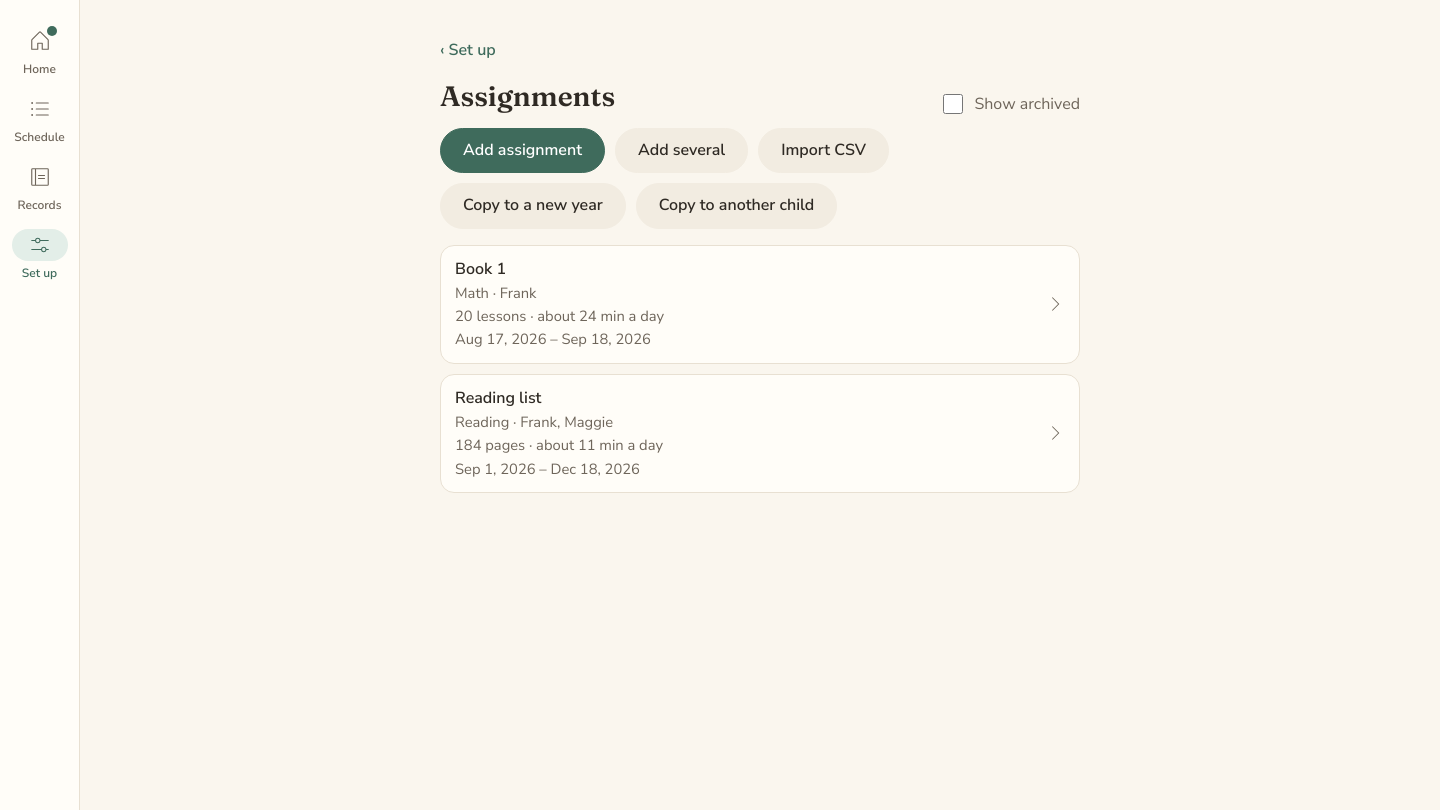
Test: Copy to a new year (S7-01) › copies the plan fields shifted by the difference, null weight and days staying null
Expected: the list named "Assignments" is shown, [440, 245, 1080, 493]
Click the button "Copy to a new year" at (533, 206), box [440, 183, 626, 229]
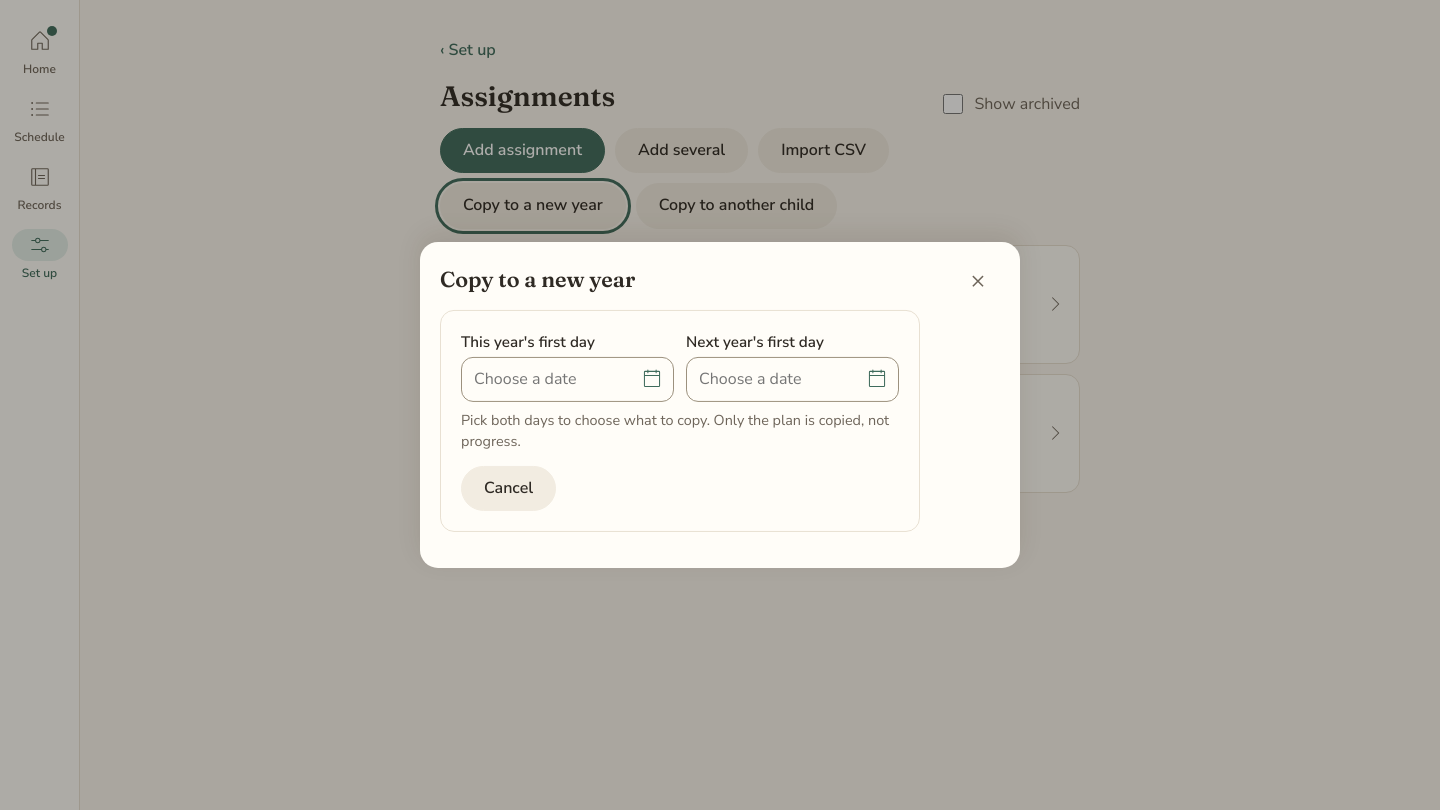
Type "2026-08-17" into the field labelled "This year's first day" at (568, 380), box [461, 357, 674, 402]
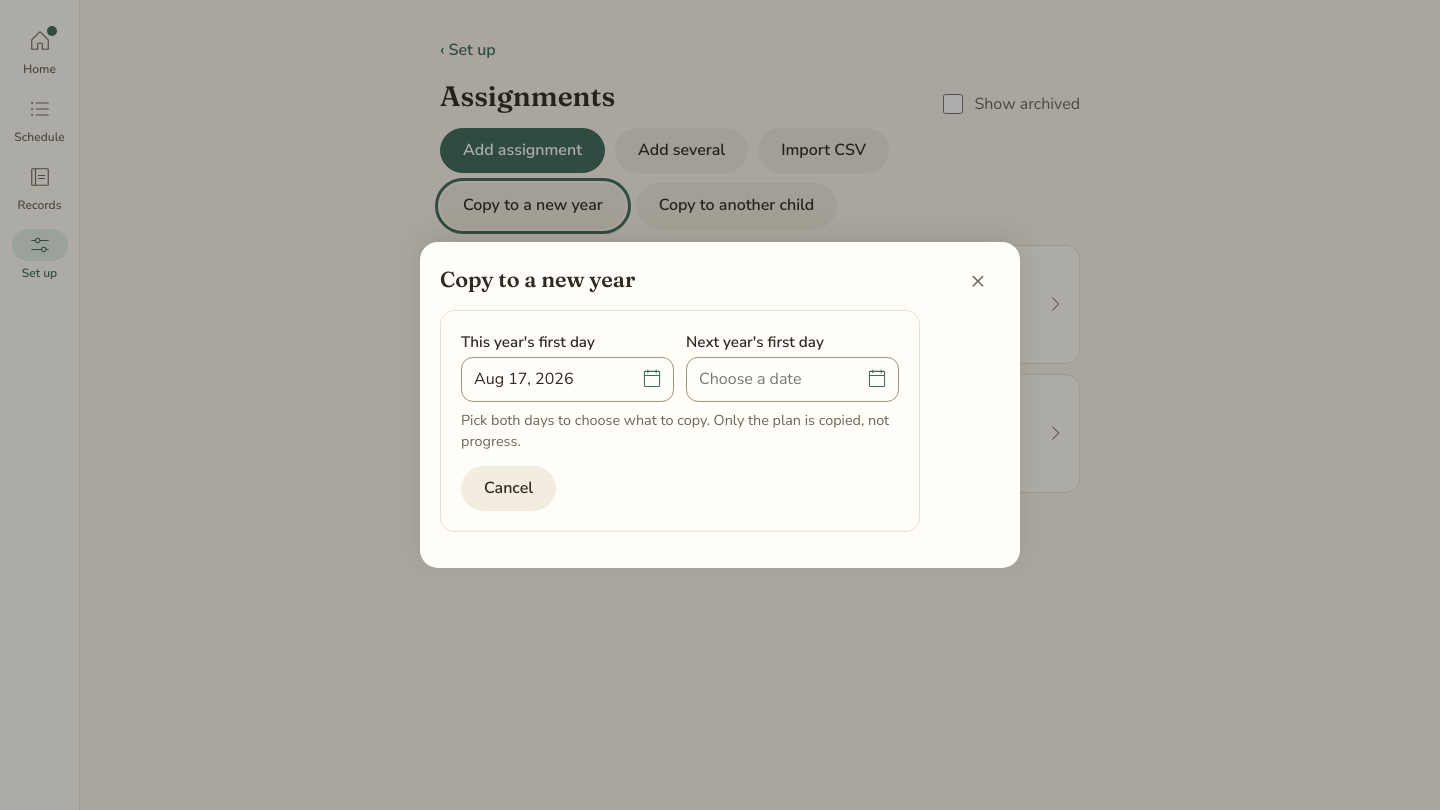
Type "2027-08-16" into the field labelled "Next year's first day" at (792, 380), box [686, 357, 899, 402]
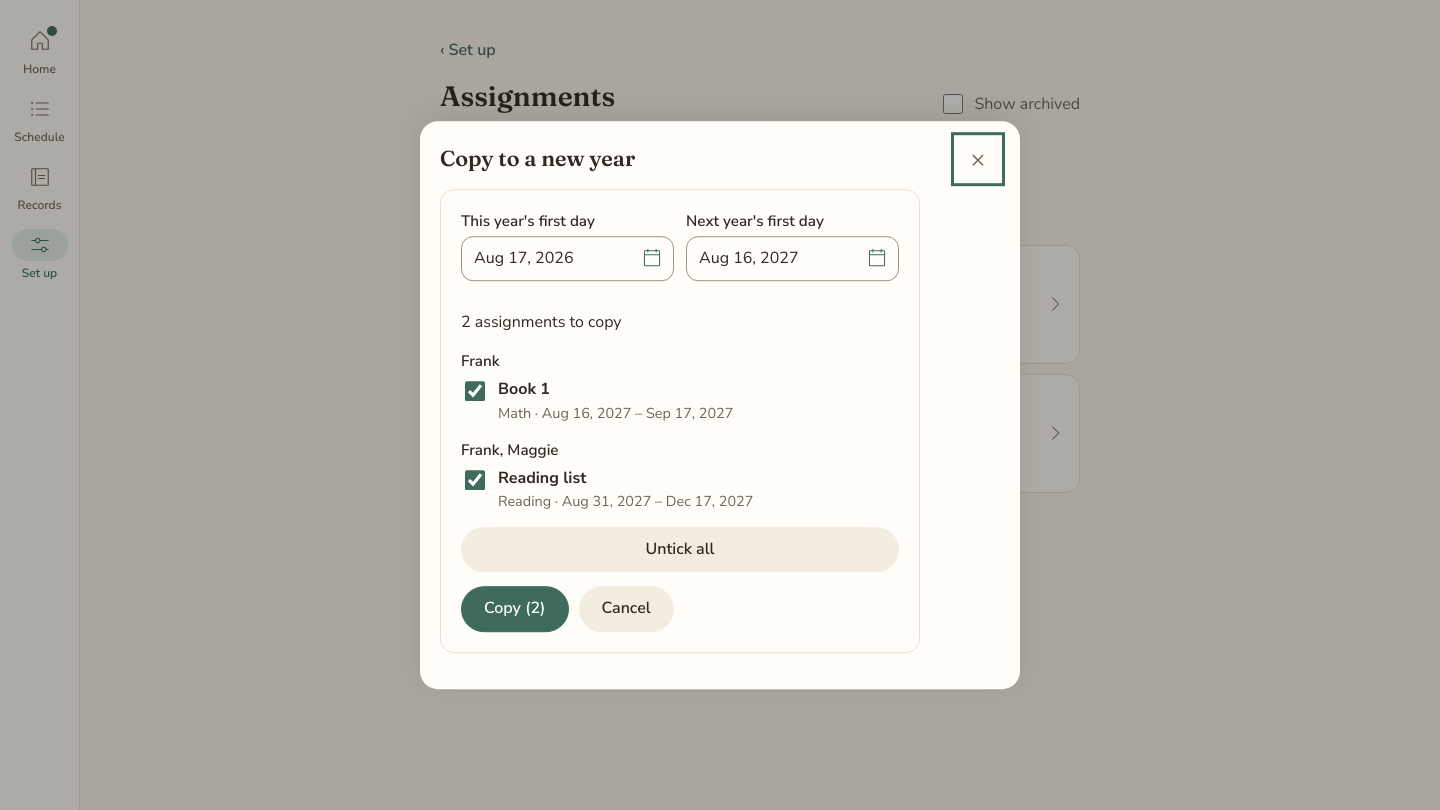
Click the button "Copy (2)" at (515, 609), box [461, 587, 568, 632]
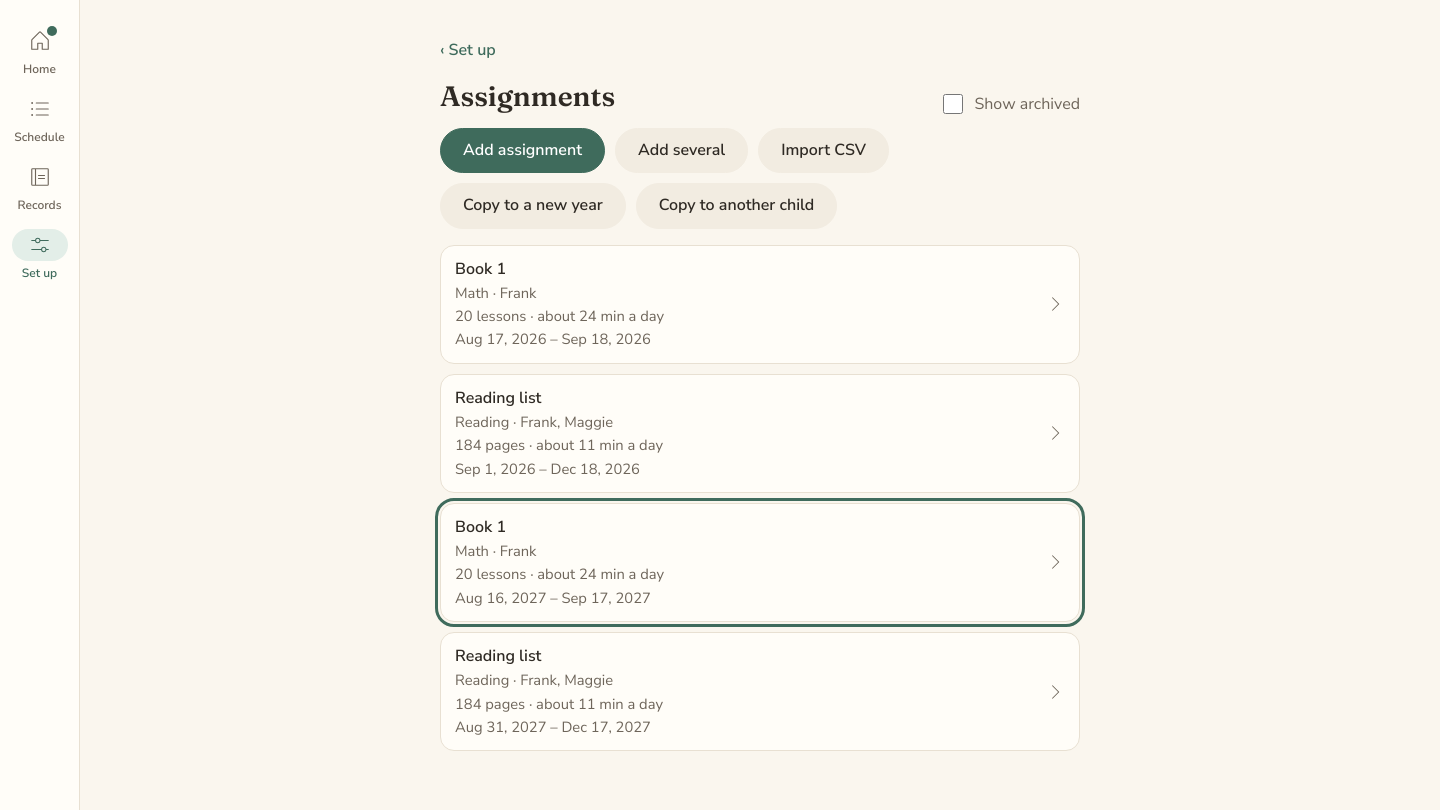
Expected: the form is gone
Expected: the text "Book 1" is shown 2 times, [455, 258, 506, 280]; [455, 516, 506, 538]
